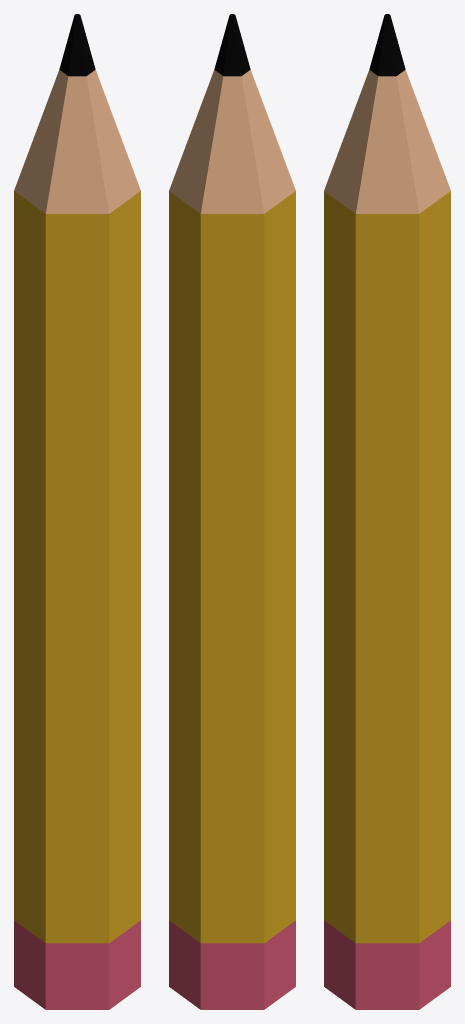
The model's file is pencil.fbx.
The picture shows the model from 3 angles, left to right: view 1: azimuth 90°, elevation 25°; view 2: azimuth 210°, elevation 25°; view 3: azimuth 270°, elevation 25°; orthographic projection.
Parts seen in each view (by area): view 1: Cylinder; view 2: Cylinder; view 3: Cylinder.
Boxes of the visible parts, left/top/right/bottom form: Cylinder: left=14, top=14, right=140, bottom=1009; Cylinder: left=169, top=14, right=295, bottom=1009; Cylinder: left=324, top=14, right=450, bottom=1009.
Bounding box in the file's own units: 173 × 1689 × 200.
